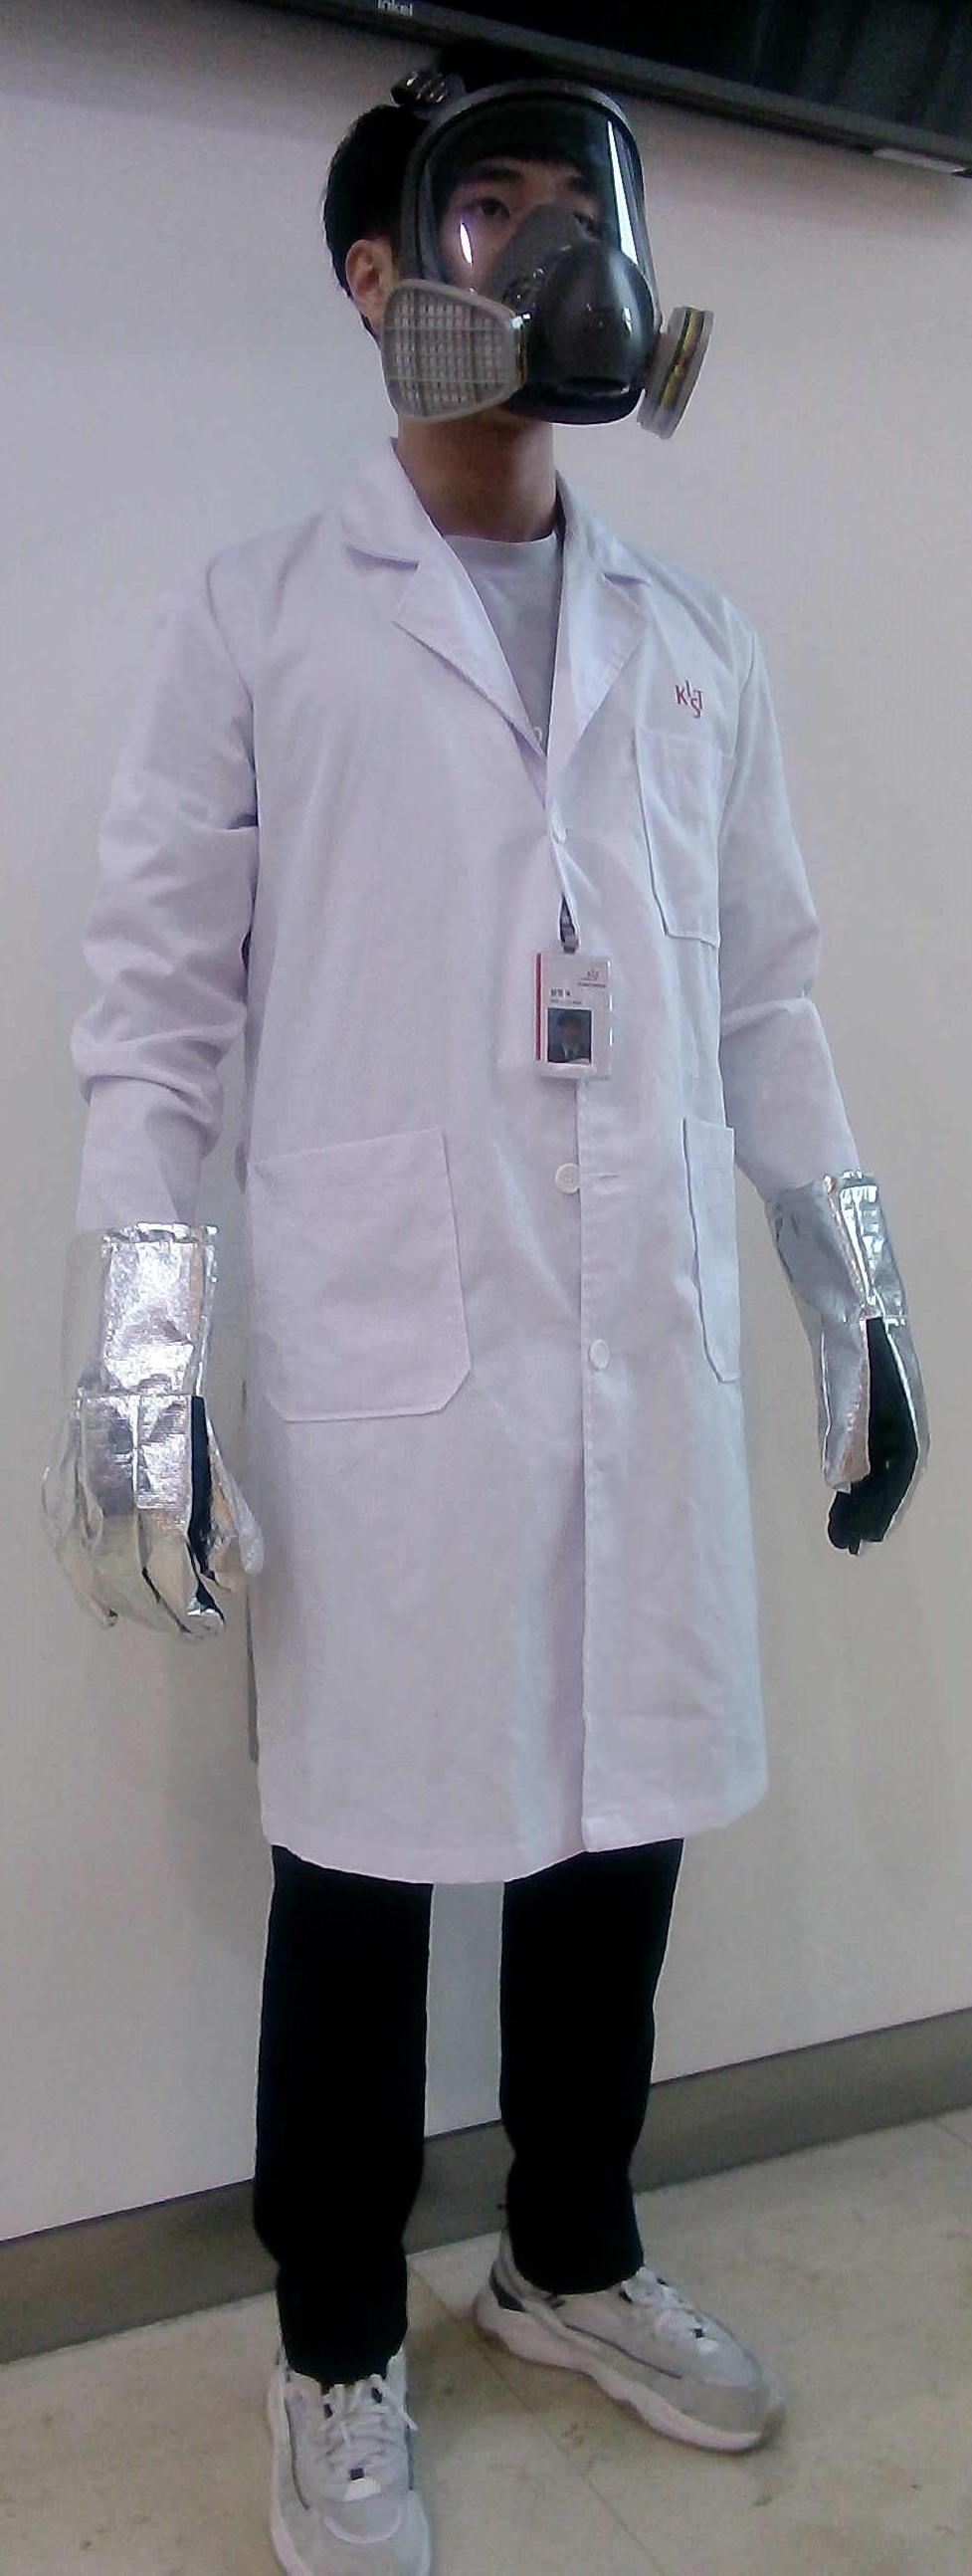lab_coat: (227, 598, 806, 1843)
